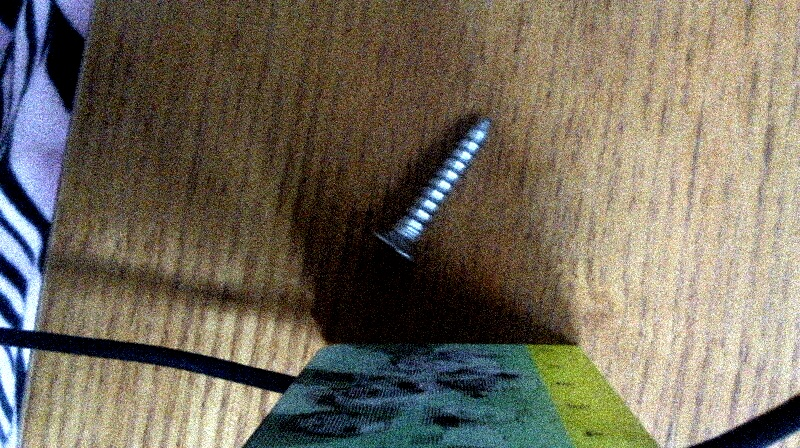S001: (365, 112, 497, 271)
